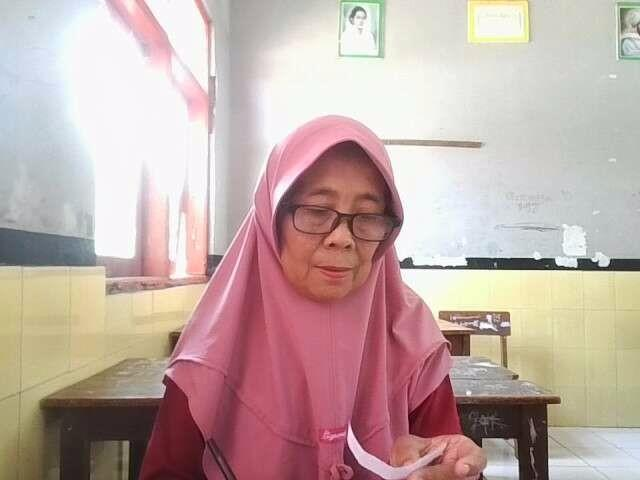good: (127, 95, 504, 480)
